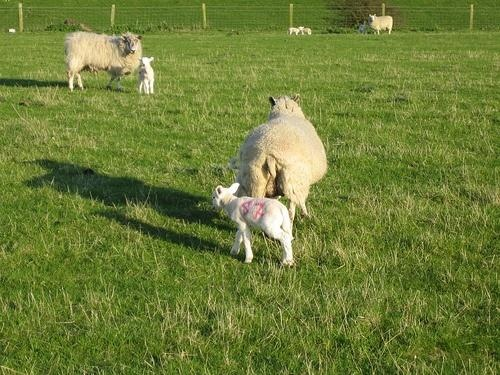sheep: (238, 94, 330, 220), (216, 183, 299, 266), (62, 29, 144, 93), (136, 54, 164, 94), (368, 15, 401, 36)
